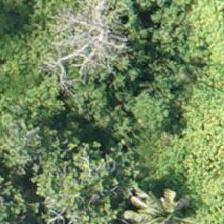coconut_tree: (112, 164, 202, 223)
